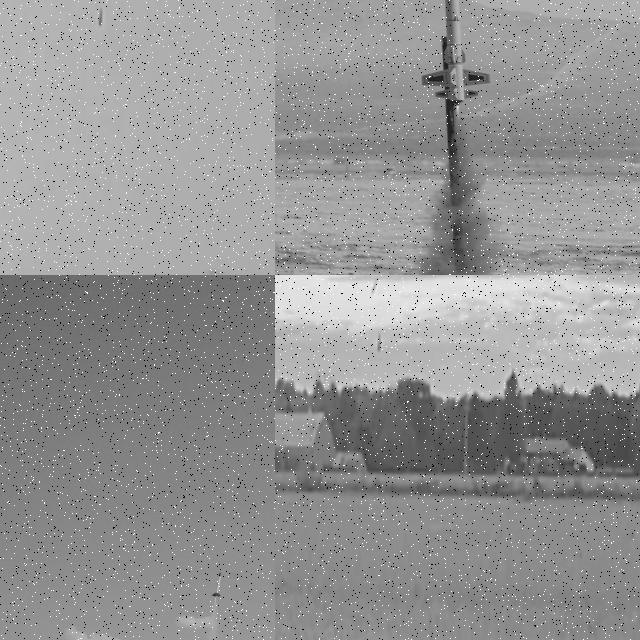Rocket: (420, 0, 491, 105), (212, 572, 222, 597), (376, 332, 382, 353), (98, 7, 103, 26)
